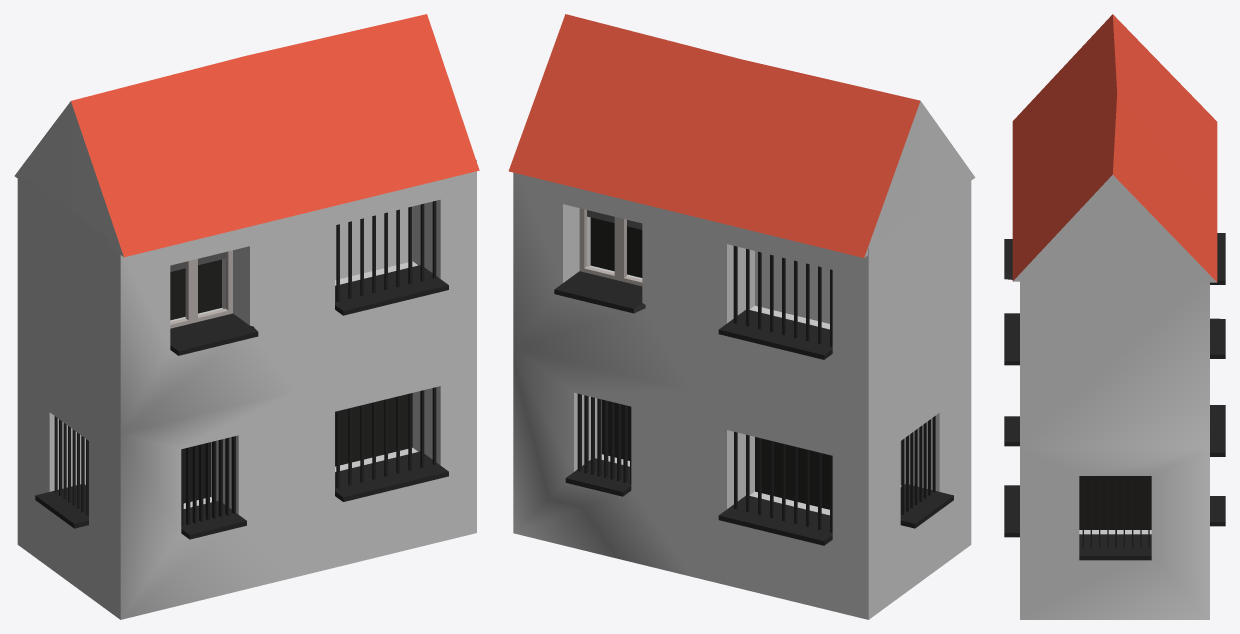
The model's file is casa_procedural_relleno_2.fbx.
3 renders of one model, left to right at view 1: azimuth 30°, elevation 25°; view 2: azimuth 150°, elevation 25°; view 3: azimuth 270°, elevation 25°, orthographic. The views are drawn at different scales.
Parts seen in each view (by area): view 1: casa procedural_relleno_2; view 2: casa procedural_relleno_2; view 3: casa procedural_relleno_2.
Boxes of the visible parts, x1=… form: casa procedural_relleno_2: x1=14, y1=14, x2=479, y2=619; casa procedural_relleno_2: x1=508, y1=14, x2=975, y2=619; casa procedural_relleno_2: x1=1004, y1=14, x2=1225, y2=619.
Size of the model in its own units: 216 by 259 by 116.
